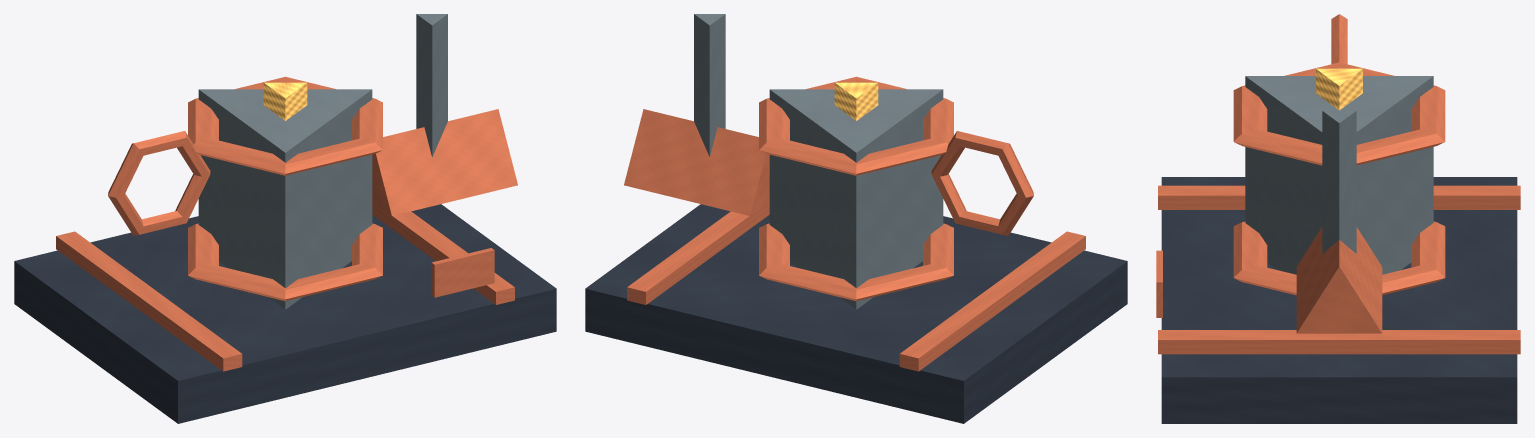
File: atlas100-s030-a01.lod2.glb
3 views of the same model, side by side, from view 1: azimuth 30°, elevation 25°; view 2: azimuth 150°, elevation 25°; view 3: azimuth 270°, elevation 25° (orthographic). The views are drawn at different scales.
Visible parts, largest first — view 1: atlas100-s030-a01:part-000, atlas100-s030-a01:part-003, atlas100-s030-a01:part-007, atlas100-s030-a01:part-005, atlas100-s030-a01:part-004, atlas100-s030-a01:part-001, atlas100-s030-a01:part-009, atlas100-s030-a01:part-008, atlas100-s030-a01:part-002, atlas100-s030-a01:part-010, atlas100-s030-a01:part-006; view 2: atlas100-s030-a01:part-000, atlas100-s030-a01:part-003, atlas100-s030-a01:part-007, atlas100-s030-a01:part-005, atlas100-s030-a01:part-004, atlas100-s030-a01:part-001, atlas100-s030-a01:part-009, atlas100-s030-a01:part-008, atlas100-s030-a01:part-002, atlas100-s030-a01:part-006; view 3: atlas100-s030-a01:part-000, atlas100-s030-a01:part-003, atlas100-s030-a01:part-002, atlas100-s030-a01:part-007, atlas100-s030-a01:part-005, atlas100-s030-a01:part-004, atlas100-s030-a01:part-008, atlas100-s030-a01:part-001, atlas100-s030-a01:part-006, atlas100-s030-a01:part-009, atlas100-s030-a01:part-010.
Part boxes in pixels (x1,y1,x2,y2): atlas100-s030-a01:part-000: (14,204,556,423); atlas100-s030-a01:part-003: (198,89,372,309); atlas100-s030-a01:part-007: (372,109,517,215); atlas100-s030-a01:part-005: (188,76,382,175); atlas100-s030-a01:part-004: (188,223,382,301); atlas100-s030-a01:part-001: (56,231,242,371); atlas100-s030-a01:part-009: (108,131,210,235); atlas100-s030-a01:part-008: (416,14,447,156); atlas100-s030-a01:part-002: (372,202,514,304); atlas100-s030-a01:part-010: (431,248,494,297); atlas100-s030-a01:part-006: (263,82,307,120); atlas100-s030-a01:part-000: (585,204,1127,423); atlas100-s030-a01:part-003: (769,89,943,309); atlas100-s030-a01:part-007: (624,109,769,215); atlas100-s030-a01:part-005: (759,76,953,175); atlas100-s030-a01:part-004: (759,223,953,301); atlas100-s030-a01:part-001: (899,231,1085,371); atlas100-s030-a01:part-009: (931,131,1033,235); atlas100-s030-a01:part-008: (694,14,725,156); atlas100-s030-a01:part-002: (627,202,769,304); atlas100-s030-a01:part-006: (834,82,878,120); atlas100-s030-a01:part-000: (1161,177,1517,423); atlas100-s030-a01:part-003: (1245,76,1433,274); atlas100-s030-a01:part-002: (1158,330,1520,354); atlas100-s030-a01:part-007: (1296,227,1382,333); atlas100-s030-a01:part-005: (1233,62,1445,165); atlas100-s030-a01:part-004: (1233,221,1445,295); atlas100-s030-a01:part-008: (1322,110,1356,253); atlas100-s030-a01:part-001: (1158,185,1520,209); atlas100-s030-a01:part-006: (1316,68,1362,110); atlas100-s030-a01:part-009: (1331,14,1347,64); atlas100-s030-a01:part-010: (1156,250,1162,317).
Bounding box in the file's own units: 2.55 × 1.6 × 1.85.
4 materials, 4 textured.
